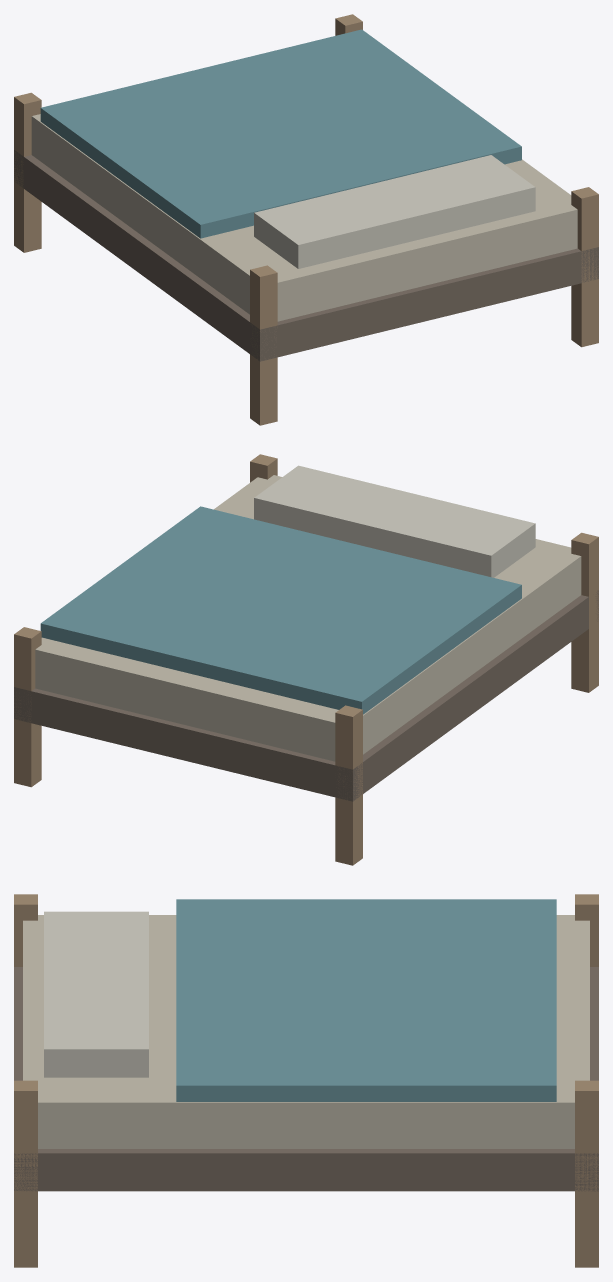
The model's file is bed_double_apartment.glb.
3 renders of one model, top to bottom at view 1: azimuth 30°, elevation 25°; view 2: azimuth 150°, elevation 25°; view 3: azimuth 270°, elevation 25°, orthographic. The views are drawn at different scales.
Parts seen in each view (by area): view 1: body; view 2: body; view 3: body.
Part boxes in pixels (x1,y1,x2,y2): body: [14, 14, 598, 425]; body: [14, 454, 598, 865]; body: [14, 894, 598, 1267].
Size of the model in its own units: 1.55 by 0.695 by 1.95.
